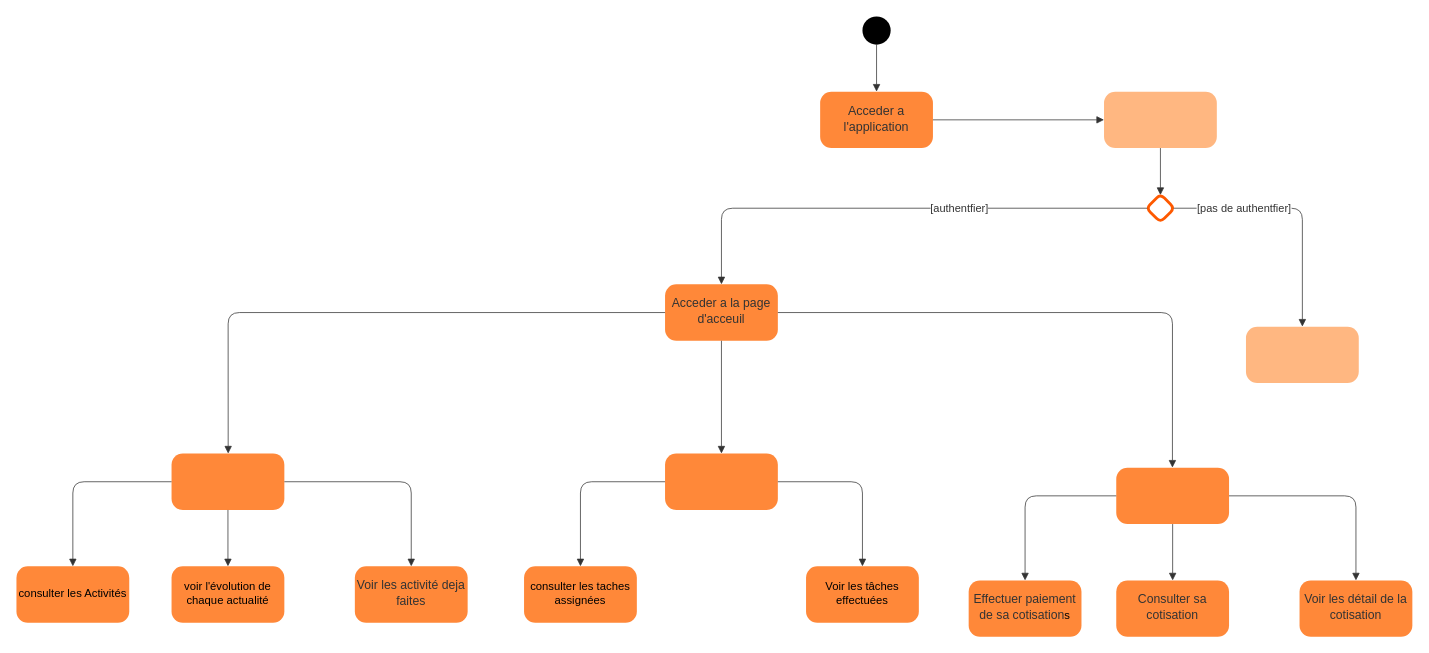
This 1429x653 diagram has some shape labels left out. Here are the shapes that lost their labels. From the top down, the centre of each, then its label:
(1160,119): Authentification
(1302,354): Quitter l'application
(227,481): acceder à la page des activités
(721,481): accès à la pages des tâches
(1172,495): accès à la page des cotisation
